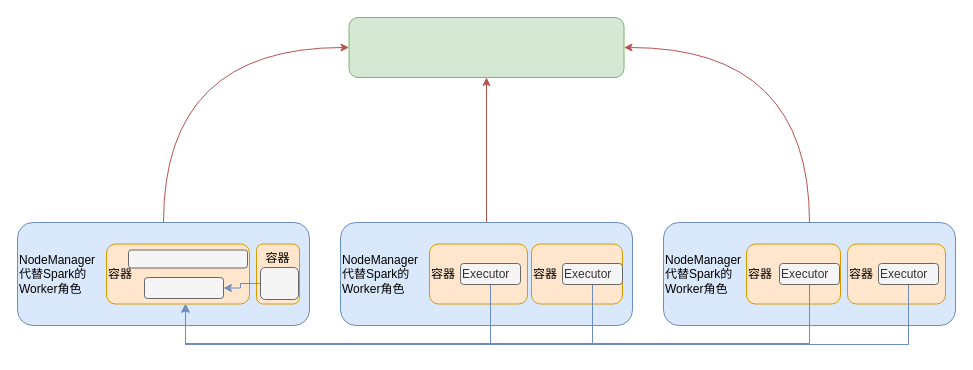
Image size: 973x370. Some labels were removed from this diagram. Here are the shapes that lost their labels. From the top down, the centre of each, then its label:
pixel 486 47: ResourceManager 代替Spark的Master角色
pixel 188 258: ApplicationMaster
pixel 184 287: Driver
pixel 279 283: Exec utor
